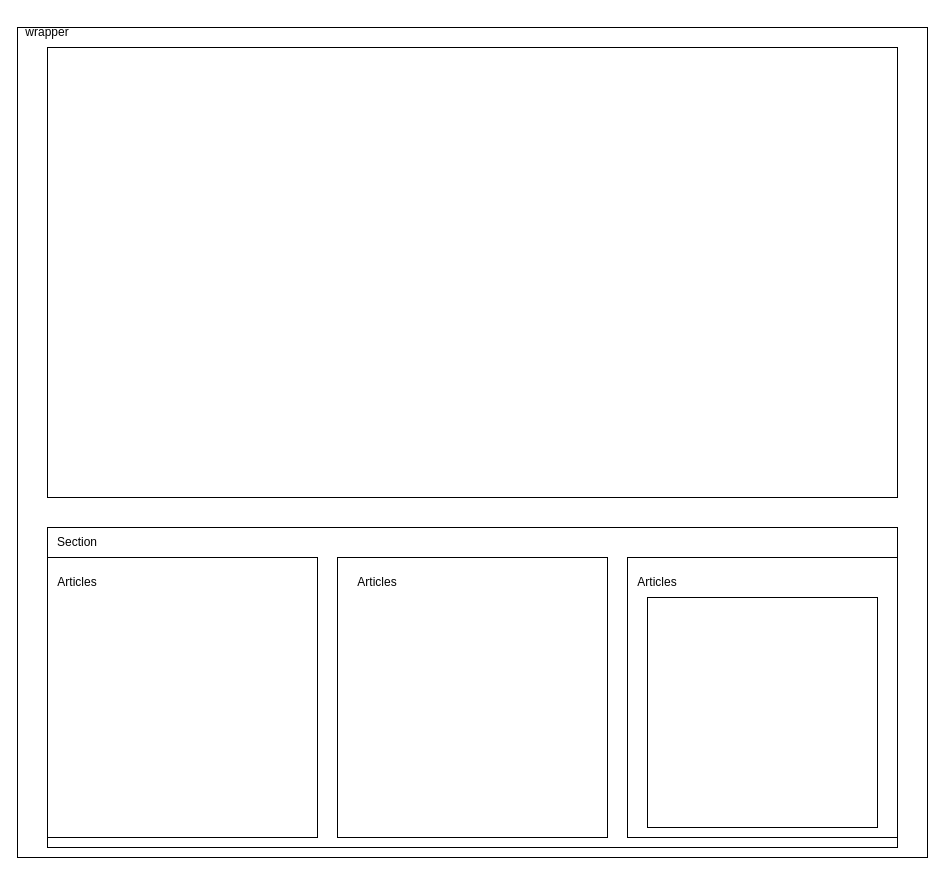
Some shapes in this 945 by 875 pixel diagram are drawn without their labels. Here are the shapes that lost their labels. From the top down, the box of each, then its label:
(46, 46, 898, 498): Main
(646, 596, 878, 828): Form
